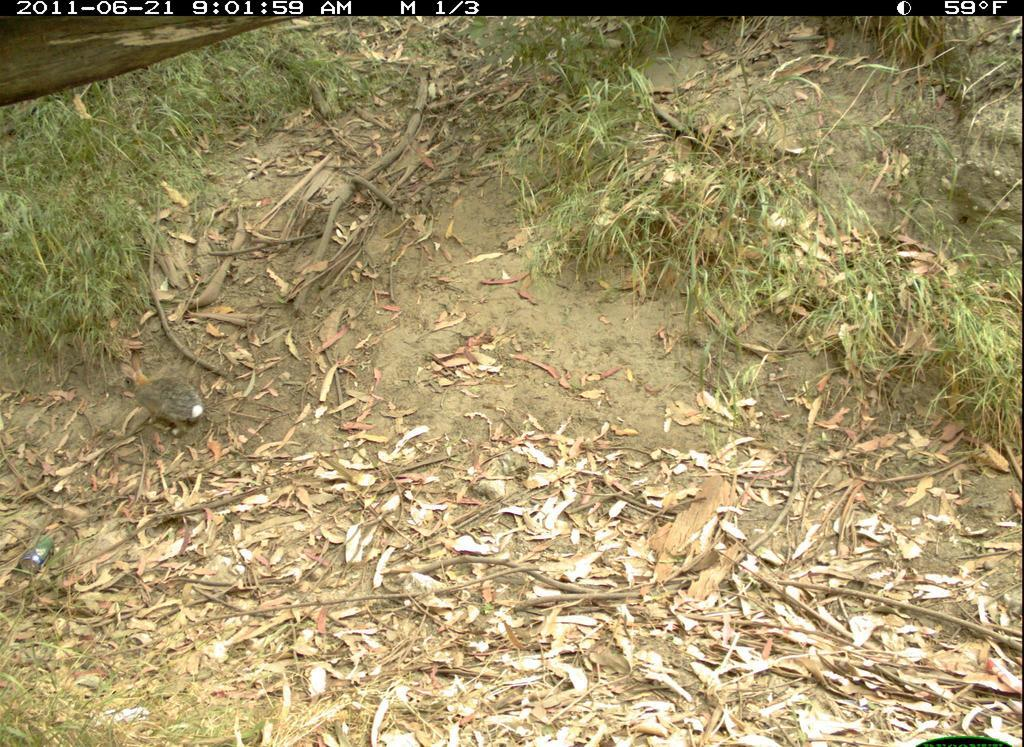rabbit: (115, 331, 219, 444)
